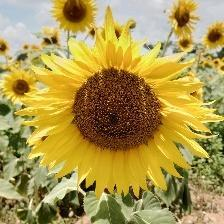sunflower: (34, 40, 208, 193)
